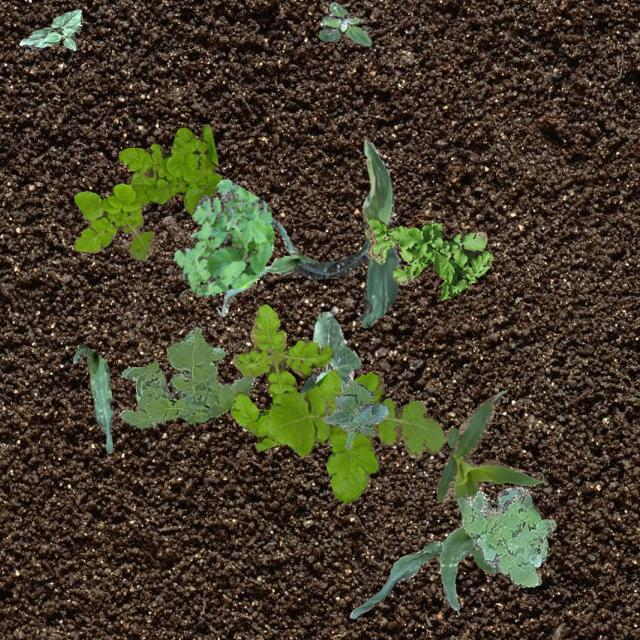crop: (348, 486, 528, 618), (434, 390, 544, 574), (294, 138, 399, 326), (220, 216, 318, 314), (300, 310, 360, 392), (322, 378, 388, 448), (72, 343, 112, 452), (18, 8, 82, 50)
weed: (266, 372, 446, 502), (72, 122, 220, 258), (228, 304, 340, 448), (118, 326, 254, 426), (172, 178, 272, 294), (366, 216, 492, 298), (456, 489, 554, 586), (318, 1, 371, 44)
